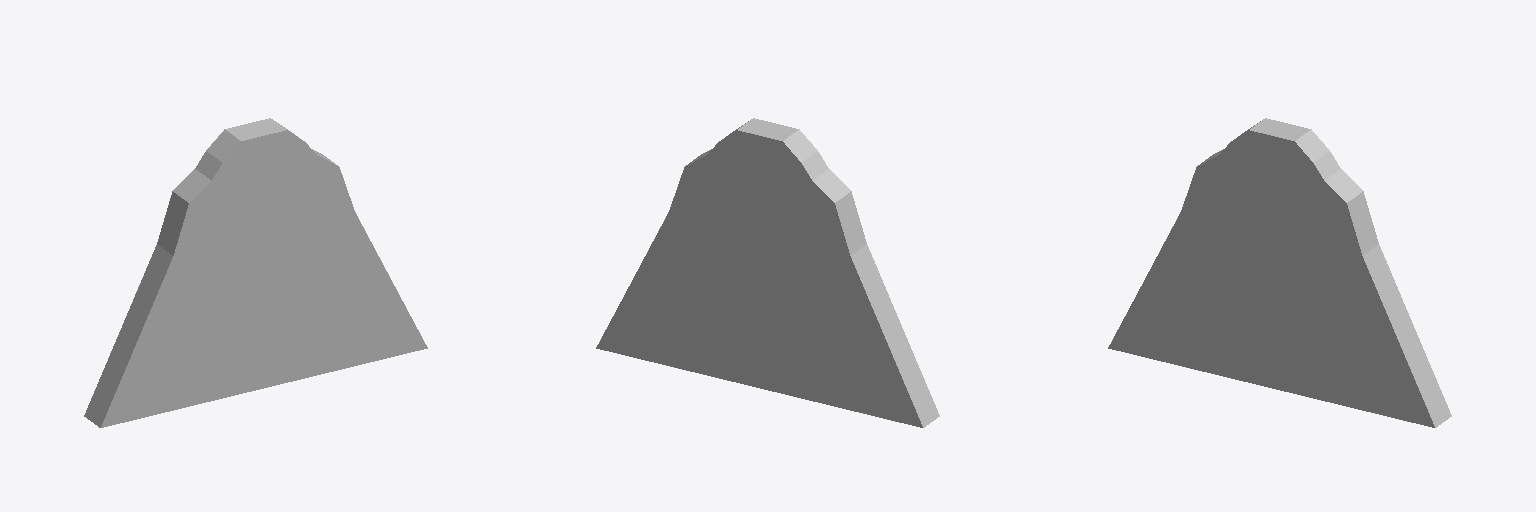
Rendered from street_underground.obj.
3 renders of one model, left to right at view 1: azimuth 30°, elevation 25°; view 2: azimuth 150°, elevation 25°; view 3: azimuth 330°, elevation 25°, orthographic.
Parts seen in each view (by area): view 1: Cube_Cube.001; view 2: Cube_Cube.001; view 3: Cube_Cube.001.
Boxes of the visible parts, <box> form: Cube_Cube.001: <box>84,118,427,427</box>; Cube_Cube.001: <box>596,118,939,427</box>; Cube_Cube.001: <box>1108,118,1451,427</box>.
Bounding box in the file's own units: 0.5703 × 0.4203 × 0.05.